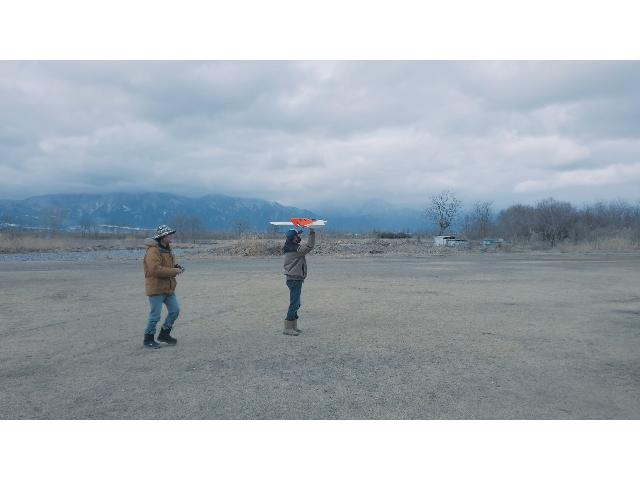Anti-Drone: (268, 214, 330, 230)
